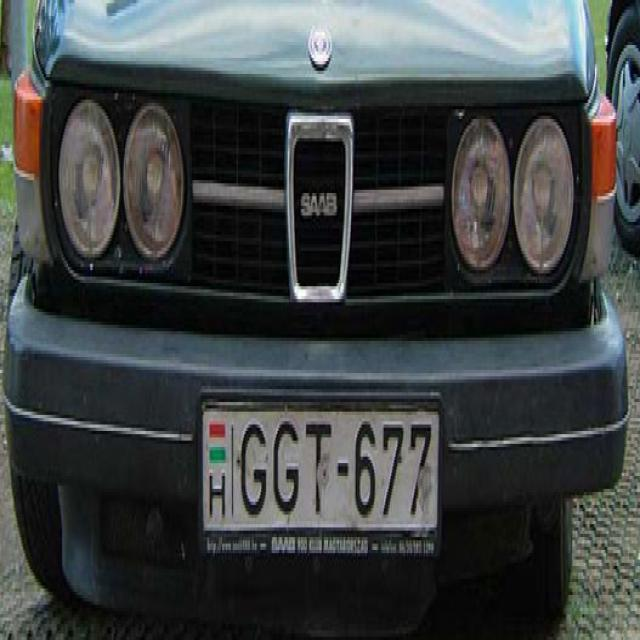licence: (197, 388, 444, 568)
